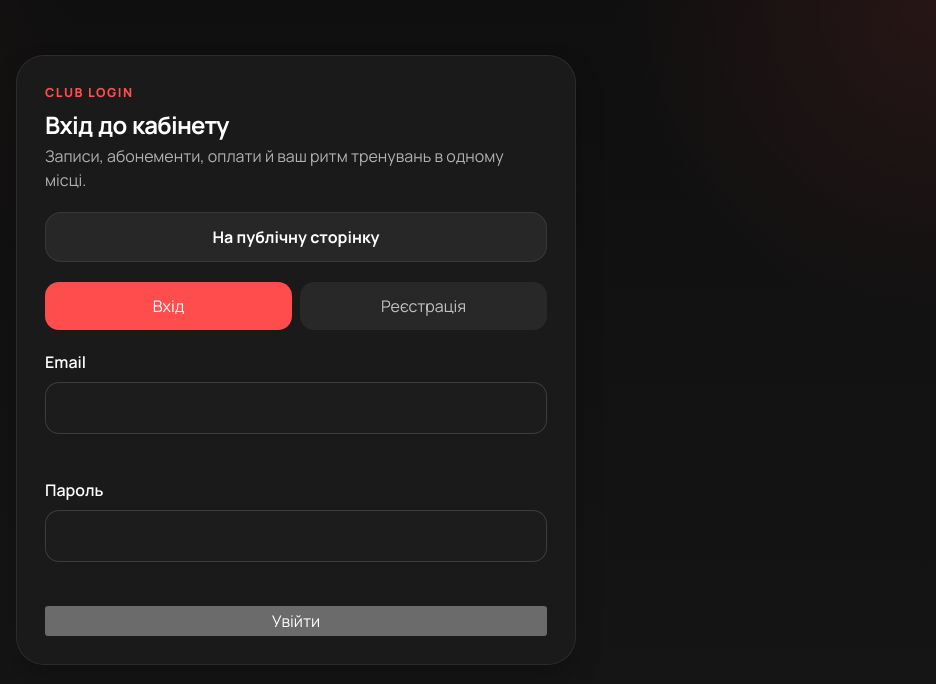
Test: LoginPage › shows validation errors for empty login submission
Click the button "Увійти" at {"x": 296, "y": 621}, box [45,606,547,636]
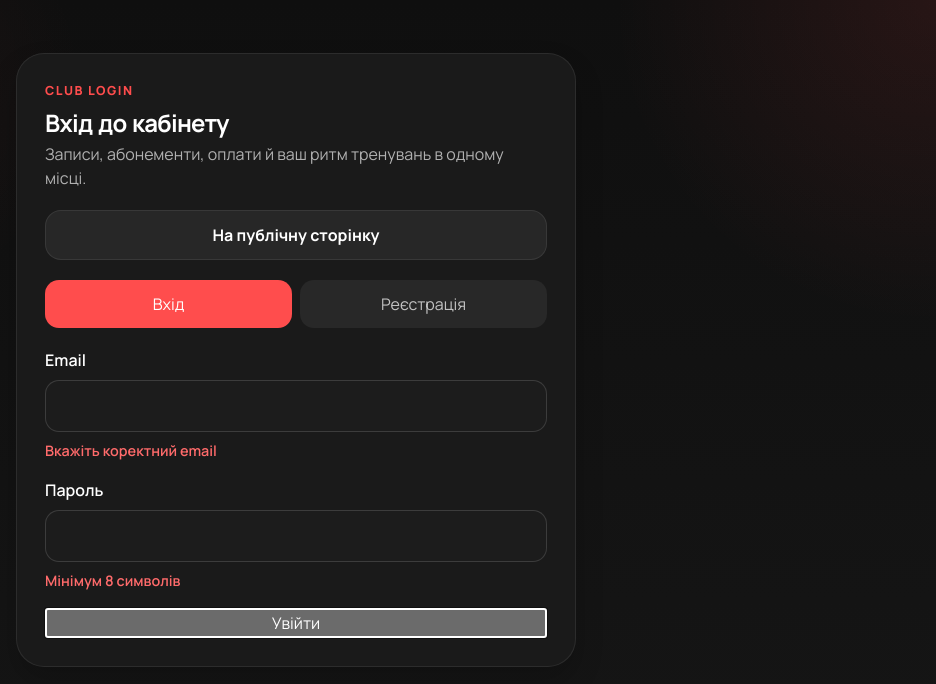
Now the text "Вкажіть коректний email" is shown, box [45,441,217,460]
Now the text "Мінімум 8 символів" is shown, box [45,571,180,590]
